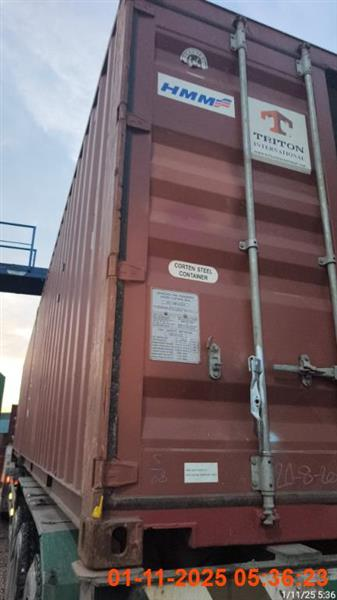dent: (1, 0, 336, 598)
